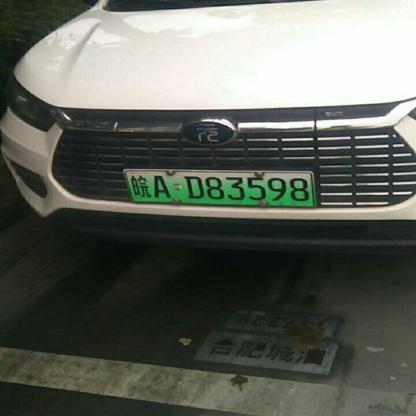lp: (122, 168, 315, 207)
